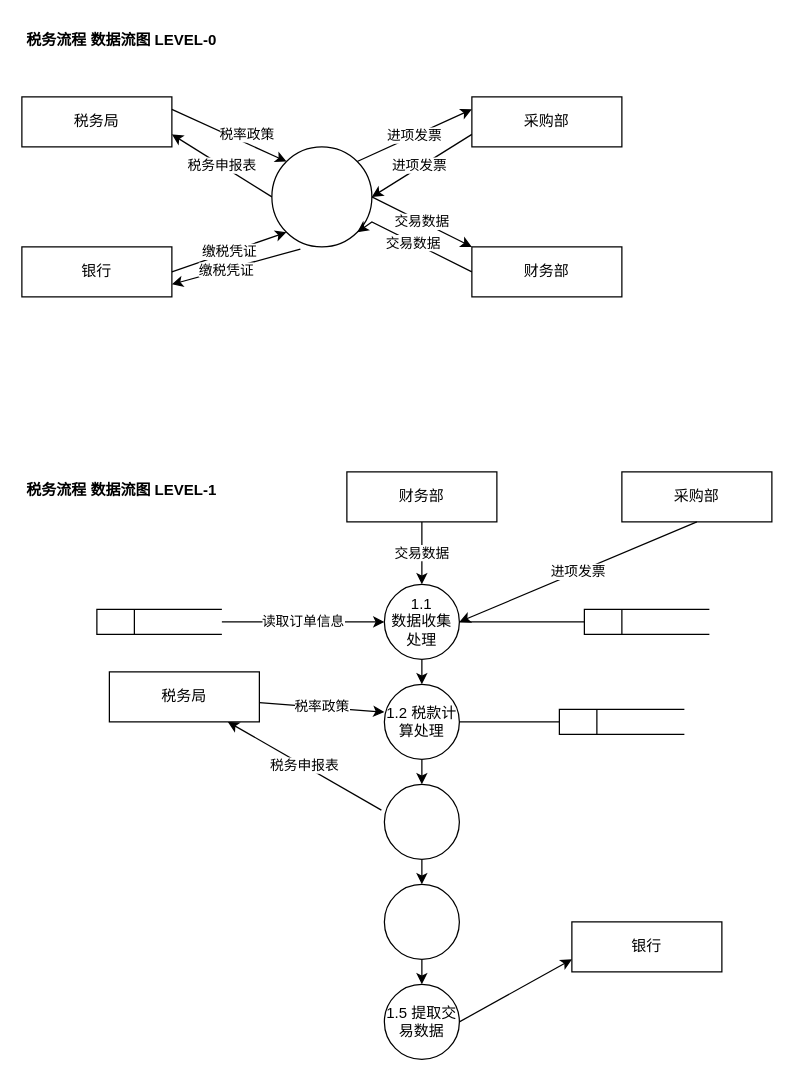
This 794x1081 diagram has some shape labels left out. The shapes that lost their labels are listed below. From the top down, each one's centre as x and y in pixels, then its label:
At point 321,196: "税务模块".
At point 159,621: "D1 交易记录库".
At point 646,621: "D2 进项发票库".
At point 621,721: "D3 税务档案库".
At point 421,821: "1.3 税务申报处理".
At point 421,921: "1.4 税款缴纳处理".
